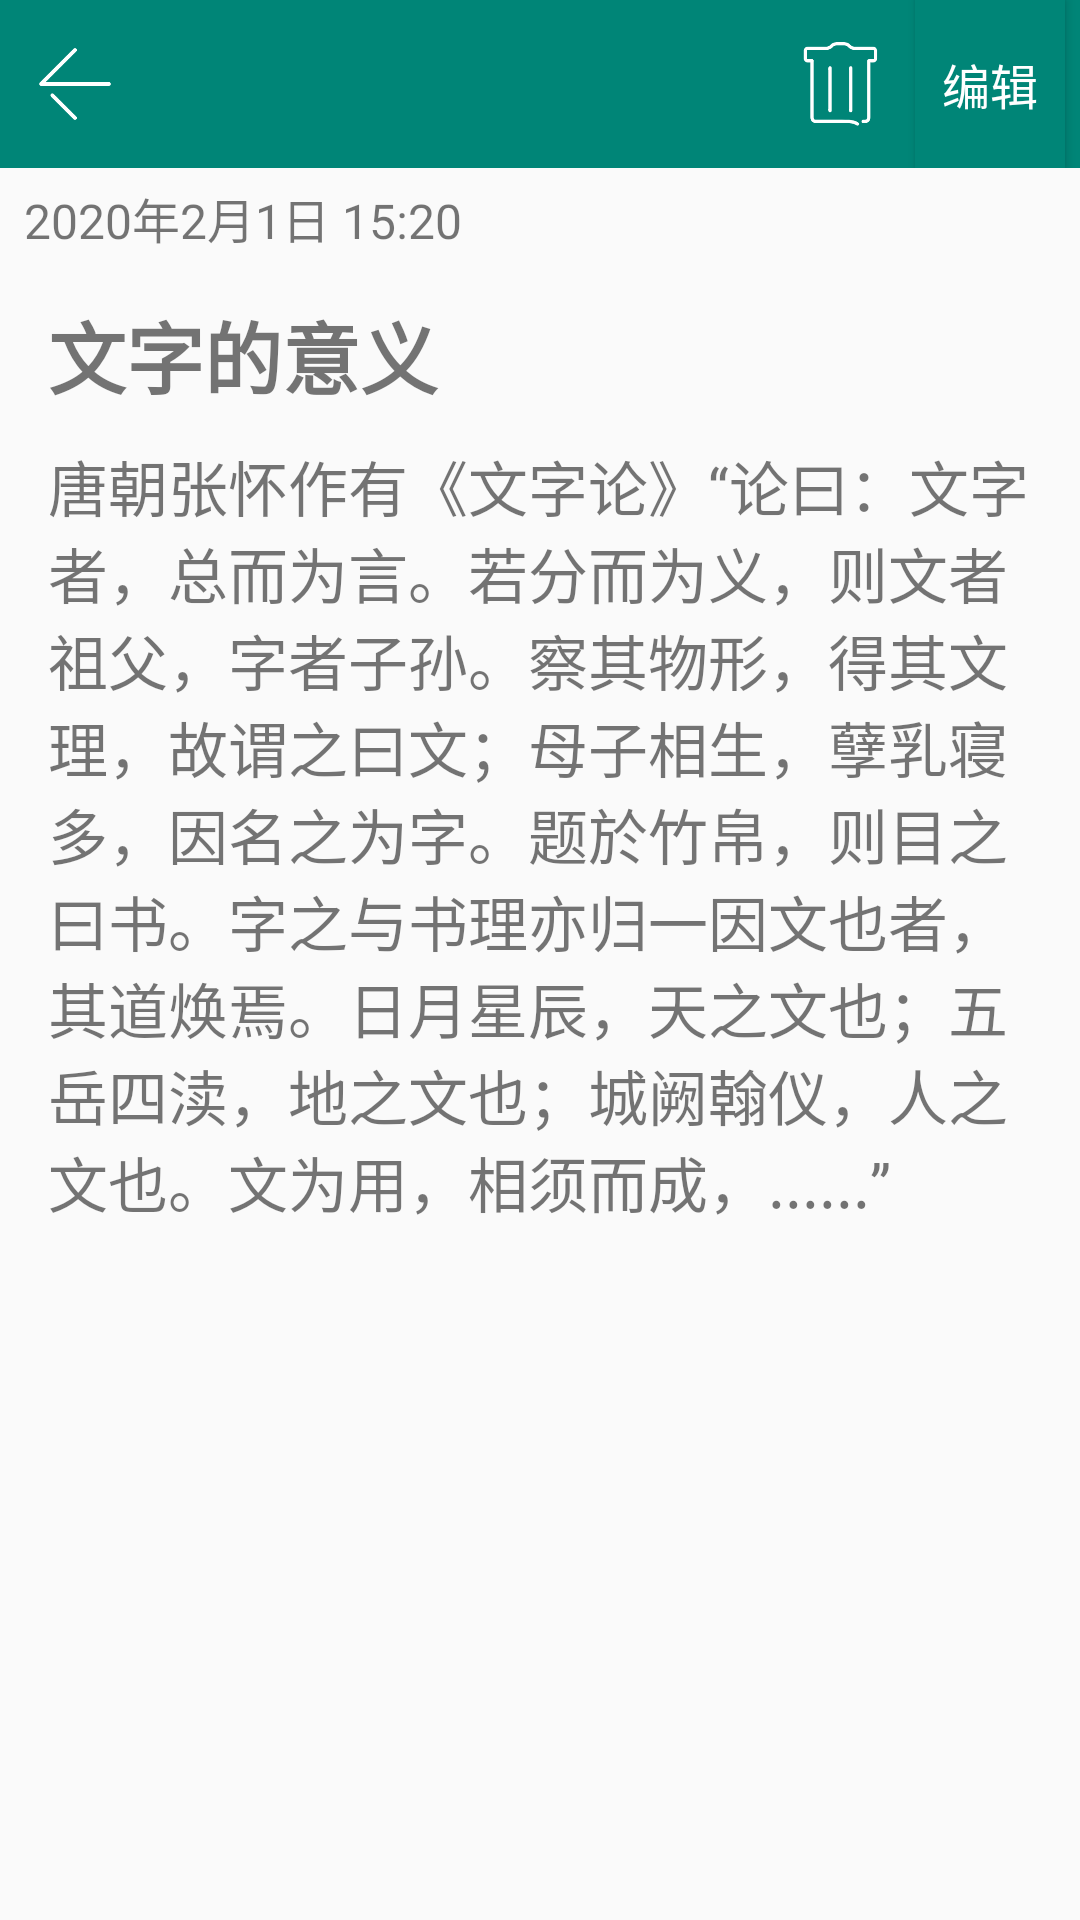

Locate icon controls on the screen. Image size 1080px x 1920px, boxes as (x1, y1, x2, y2).
back: (39, 48, 111, 120)
delete: (803, 42, 877, 126)
